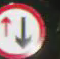Two way: (0, 3, 45, 58)
